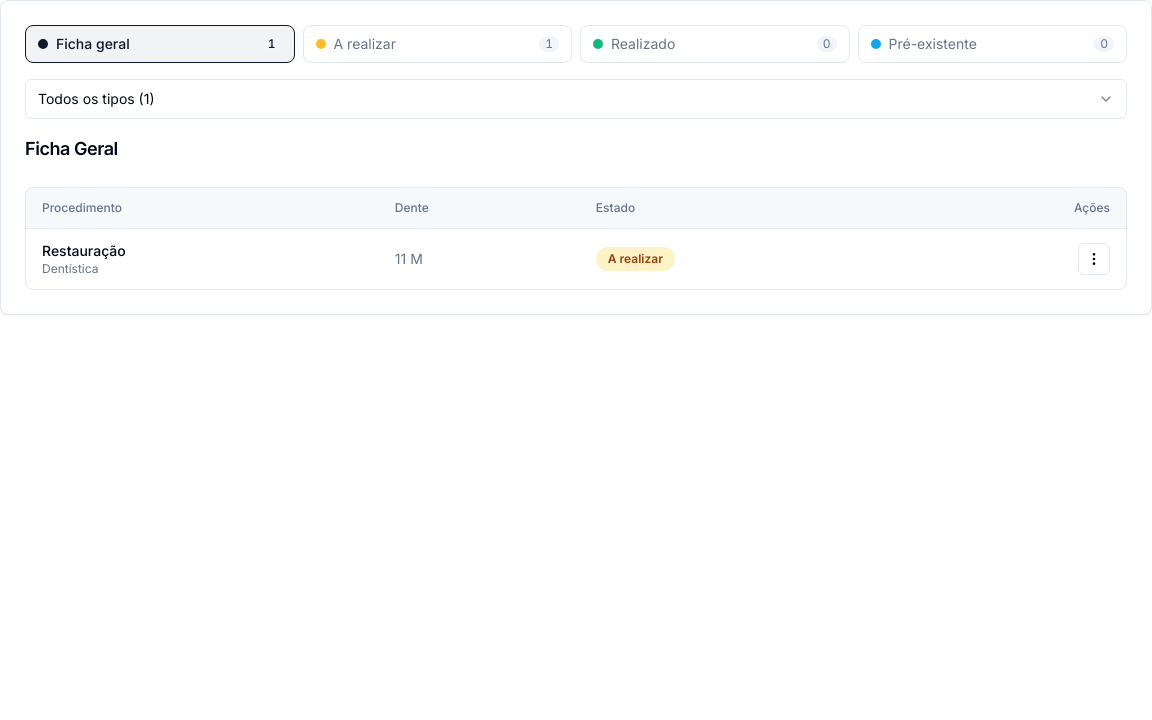
ProcedureList › sem permissão de edição só deixa visualizar detalhes
Click the button named "Ações de Restauração" at (1094, 259), box [1078,243,1110,275]
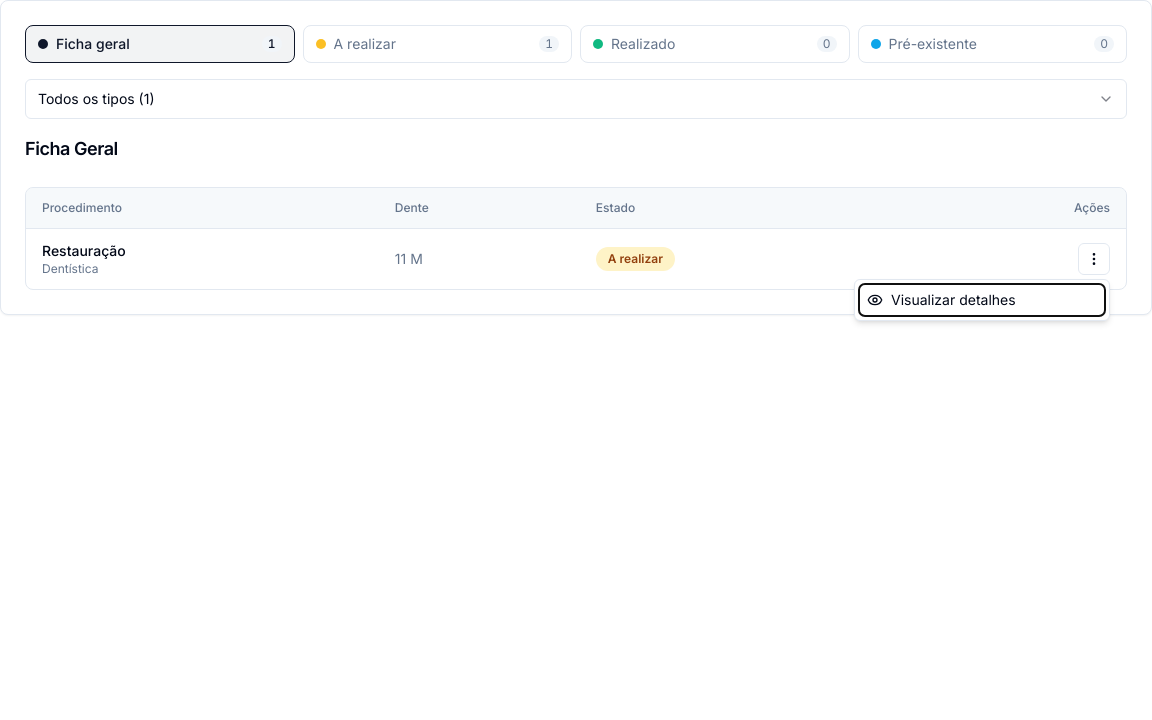
Expected: the button "Visualizar detalhes" is shown, [859,284,1105,316]
